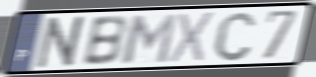7: (265, 8, 300, 61)
B: (79, 14, 128, 68)
C: (211, 9, 259, 64)
M: (120, 12, 180, 65)
N: (33, 14, 91, 70)
X: (166, 10, 217, 65)
